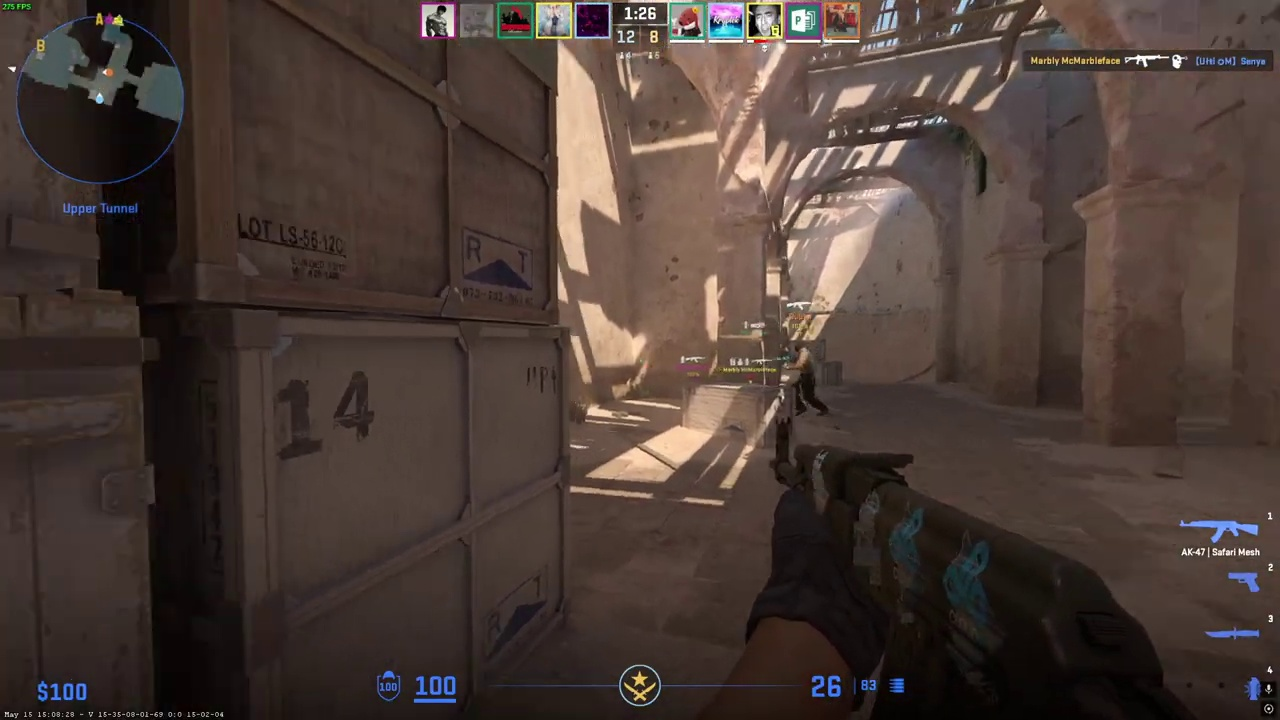Terrorist: (792, 338, 824, 417)
